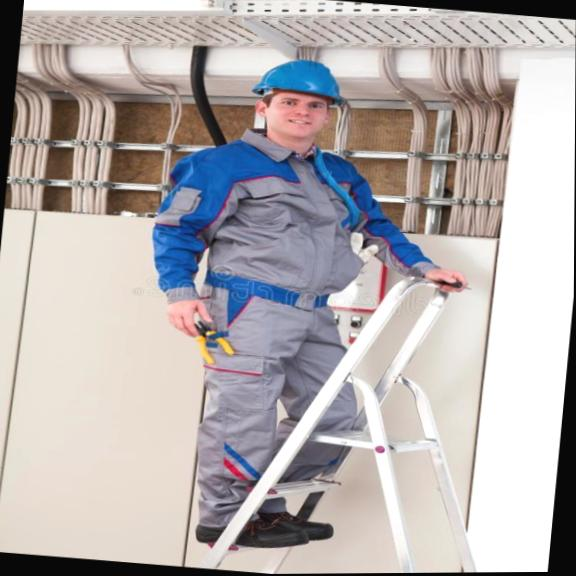no_safety_vest: (143, 132, 410, 322)
